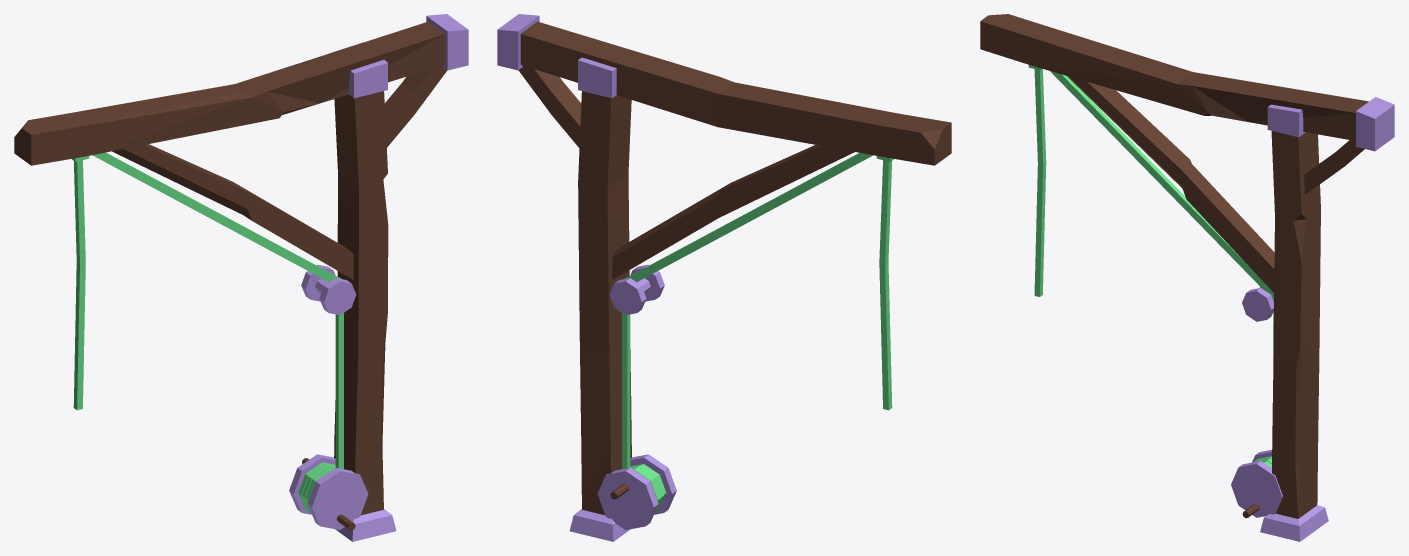
File: Crane_2.fbx
The picture shows the model from 3 angles, left to right: view 1: azimuth 30°, elevation 25°; view 2: azimuth 150°, elevation 25°; view 3: azimuth 330°, elevation 25°; orthographic projection. The views are drawn at different scales.
Visible parts, largest first — view 1: Crane_2; view 2: Crane_2; view 3: Crane_2.
Part boxes in pixels (x1,y1,x2,y2): Crane_2: [14, 14, 468, 541]; Crane_2: [497, 14, 951, 541]; Crane_2: [980, 14, 1394, 541].
Size of the model in its own units: 4.47 by 4.74 by 0.8316.
